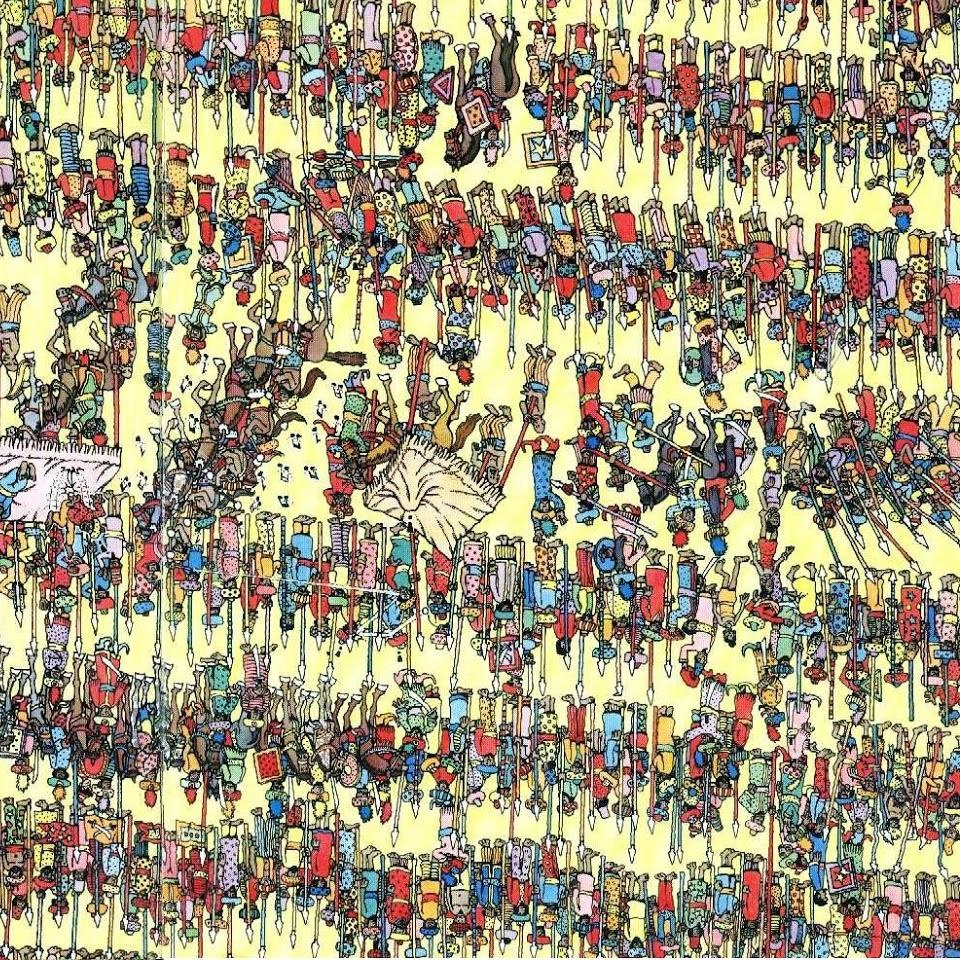waldo: (76, 776, 93, 803)
